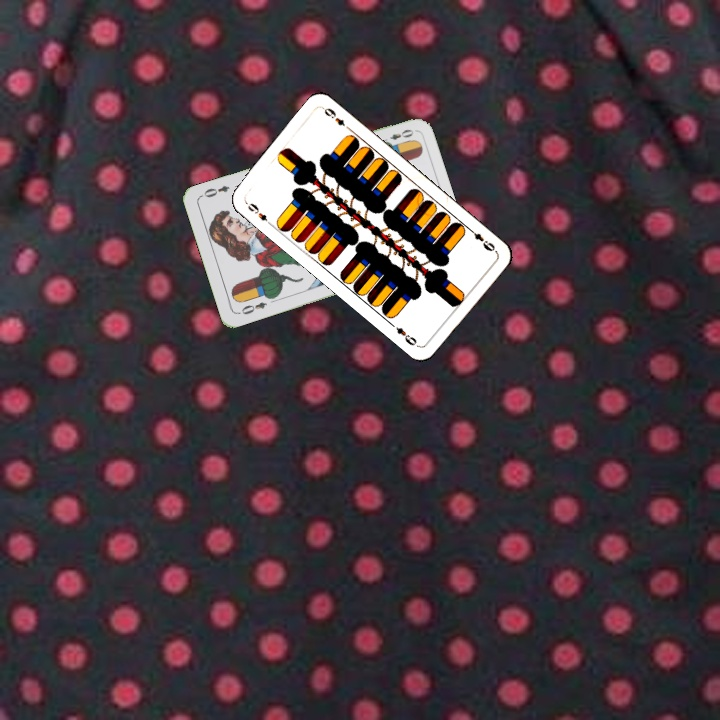E9: (241, 198, 275, 228), (465, 224, 498, 254)
EO: (377, 125, 416, 146), (234, 298, 269, 317)
